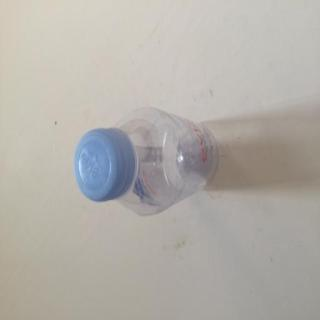Plastic-bottle: (73, 107, 222, 221)
